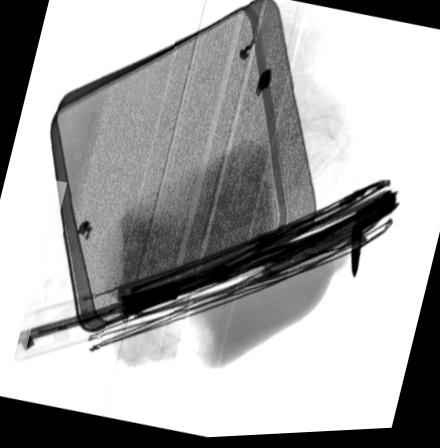Bullet: (348, 224, 362, 284)
